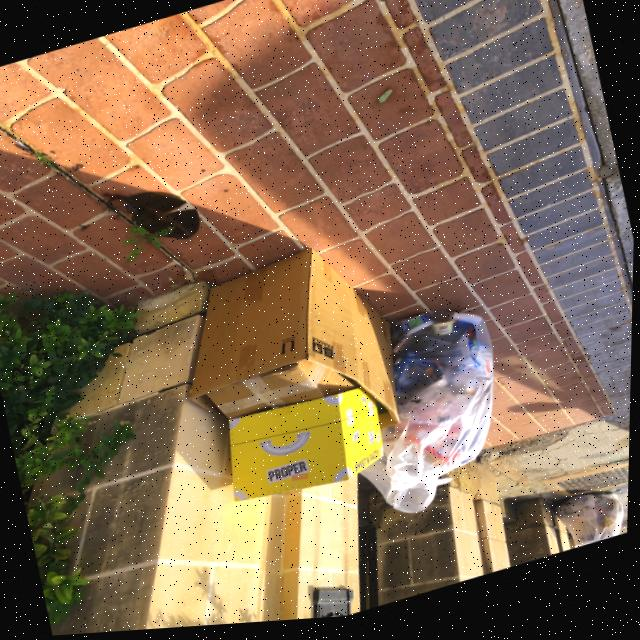Organic Waste -White Bag-: (332, 304, 523, 523)
Other: (166, 235, 417, 517)
